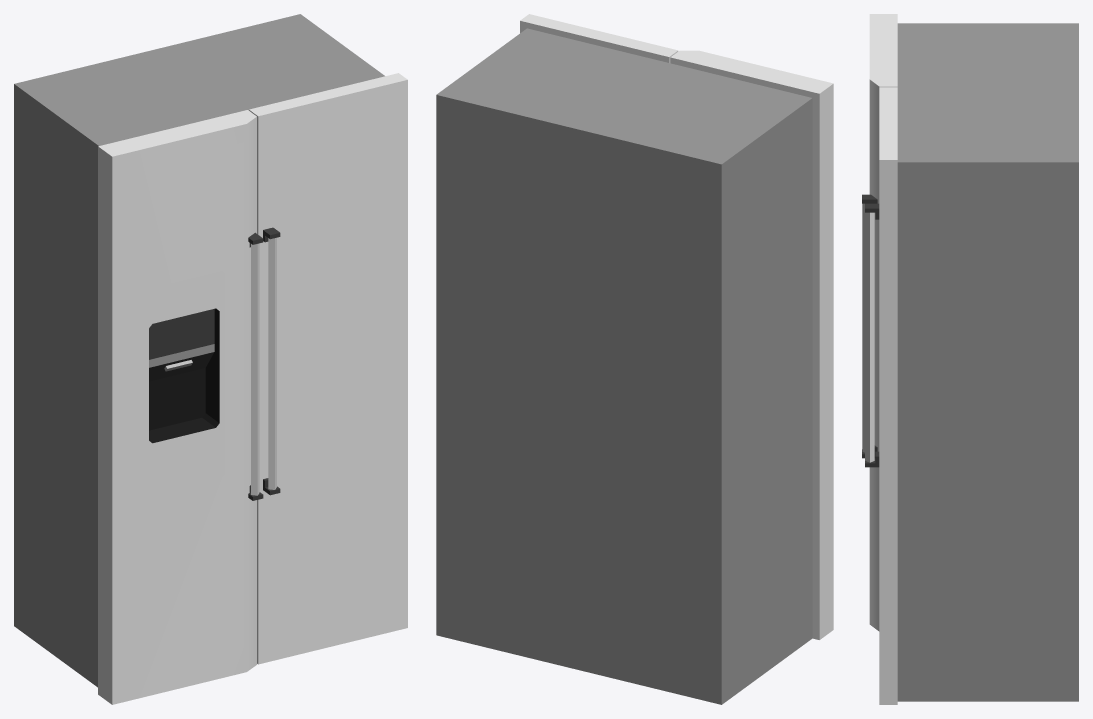
File: kitchen_item_033.glb
The picture shows the model from 3 angles, left to right: view 1: azimuth 30°, elevation 25°; view 2: azimuth 150°, elevation 25°; view 3: azimuth 270°, elevation 25°; orthographic projection.
Parts seen in each view (by area): view 1: kitchen_item_033; view 2: kitchen_item_033; view 3: kitchen_item_033.
Part boxes in pixels (<box>): kitchen_item_033: <box>14,14,407,704</box>; kitchen_item_033: <box>436,14,833,704</box>; kitchen_item_033: <box>862,14,1078,704</box>.
Bounding box in the file's own units: 1.25 × 2.19 × 0.7882.
1 material, 1 textured.
